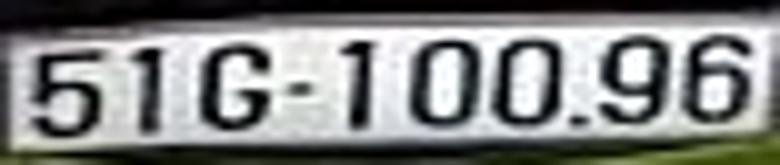-: (284, 80, 312, 105)
.: (571, 112, 591, 130)
0: (409, 40, 480, 126), (494, 37, 562, 123)
1: (344, 35, 379, 130), (128, 46, 167, 130)
5: (35, 47, 107, 142)
6: (681, 33, 757, 124)
9: (596, 36, 670, 128)
G: (196, 44, 270, 136)
